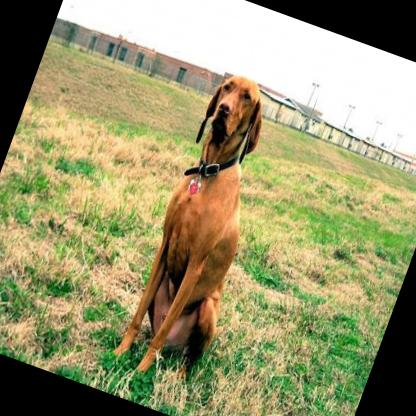vizsla: (106, 64, 301, 389)
